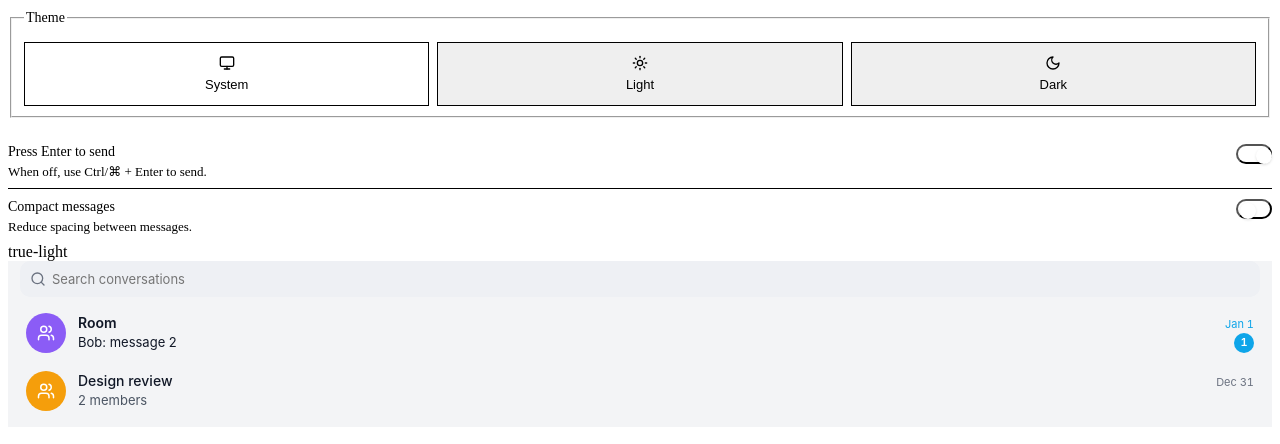
Test: React components › settings toggle preferences and theme tokens reach the root
Click the switch named "Press Enter to send" in the row of "Press Enter to send": click(1254, 154) [1236,144,1272,164]
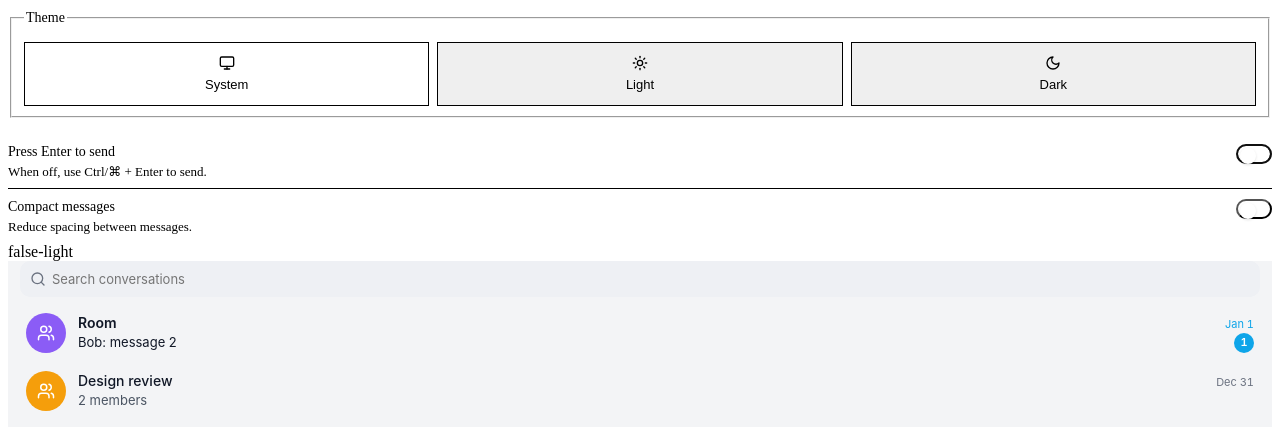
Click the radio button labelled "Dark": click(1053, 74) [851,42,1256,106]
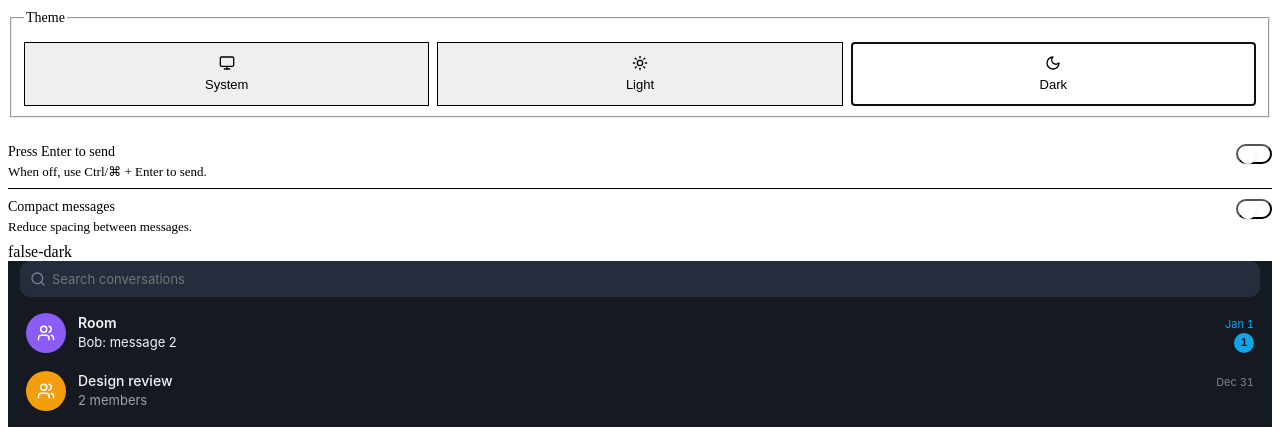
Expected: the text with test id "prefs" reads "false-dark", [8,243,72,260]
